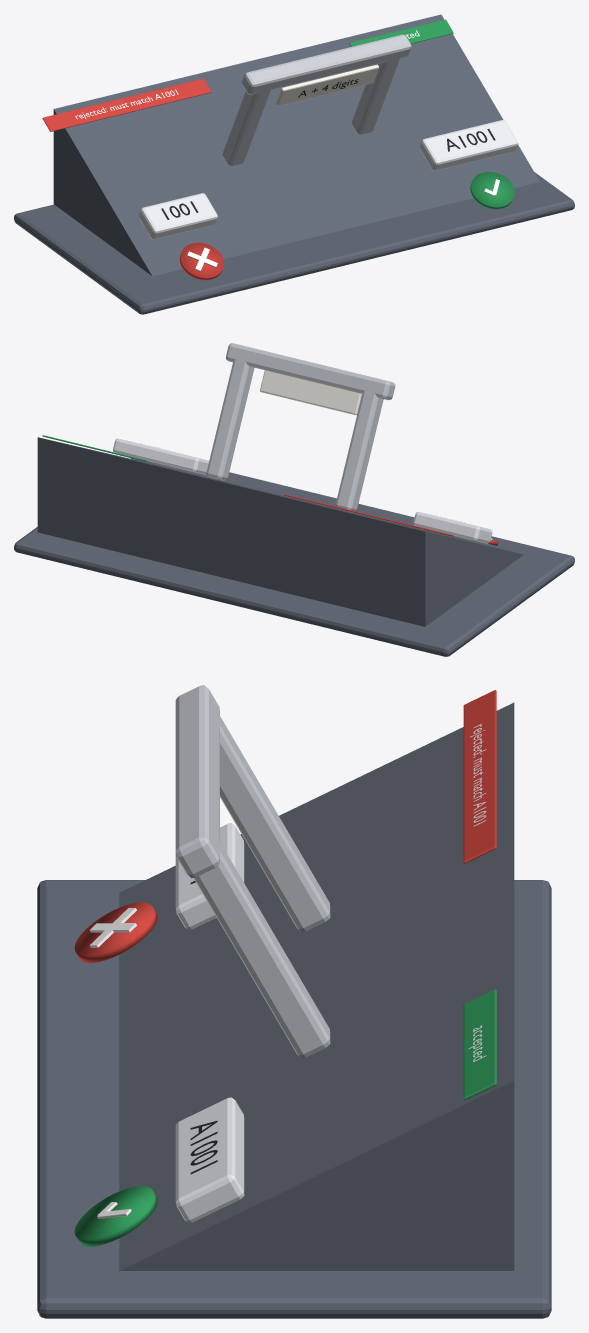
The model's file is validate.glb.
The picture shows the model from 3 angles, top to bottom: view 1: azimuth 30°, elevation 25°; view 2: azimuth 150°, elevation 25°; view 3: azimuth 270°, elevation 25°; orthographic projection. The views are drawn at different scales.
Parts seen in each view (by area): view 1: slope, stand, post-1, t.001, lbl_p, t, slot_label, ok_disc, x_disc, lbl2_p; view 2: slope, stand, post-1, slot_label, t.001, t; view 3: slope, stand, post-1, t.001, lbl_p, lbl2_p, ok_disc, t, x_disc.
Boxes of the visible parts, <box> form: slope: <box>53,14,539,276</box>; stand: <box>14,172,574,314</box>; post-1: <box>222,34,411,166</box>; t.001: <box>419,120,518,170</box>; lbl_p: <box>42,78,211,131</box>; t: <box>138,193,217,239</box>; slot_label: <box>276,64,379,106</box>; ok_disc: <box>470,172,514,209</box>; x_disc: <box>179,242,223,280</box>; lbl2_p: <box>349,19,453,46</box>; slope: <box>37,437,523,626</box>; stand: <box>14,458,574,656</box>; post-1: <box>206,343,395,512</box>; slot_label: <box>260,370,361,415</box>; t.001: <box>113,438,208,474</box>; t: <box>413,512,492,543</box>; slope: <box>119,702,514,1270</box>; stand: <box>37,880,551,1318</box>; post-1: <box>175,685,330,1058</box>; t.001: <box>175,1097,244,1223</box>; lbl_p: <box>463,690,496,863</box>; lbl2_p: <box>463,989,496,1099</box>; ok_disc: <box>74,1186,157,1246</box>; t: <box>175,823,244,930</box>; x_disc: <box>74,902,157,962</box>.
Bounding box in the file's own units: 1.35 × 0.5264 × 0.6898.
